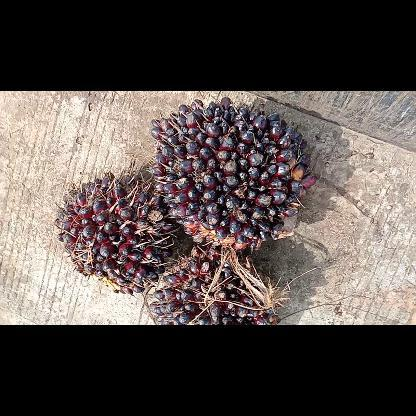TBS mentah: (144, 96, 318, 252), (53, 170, 176, 298), (142, 244, 286, 324)
